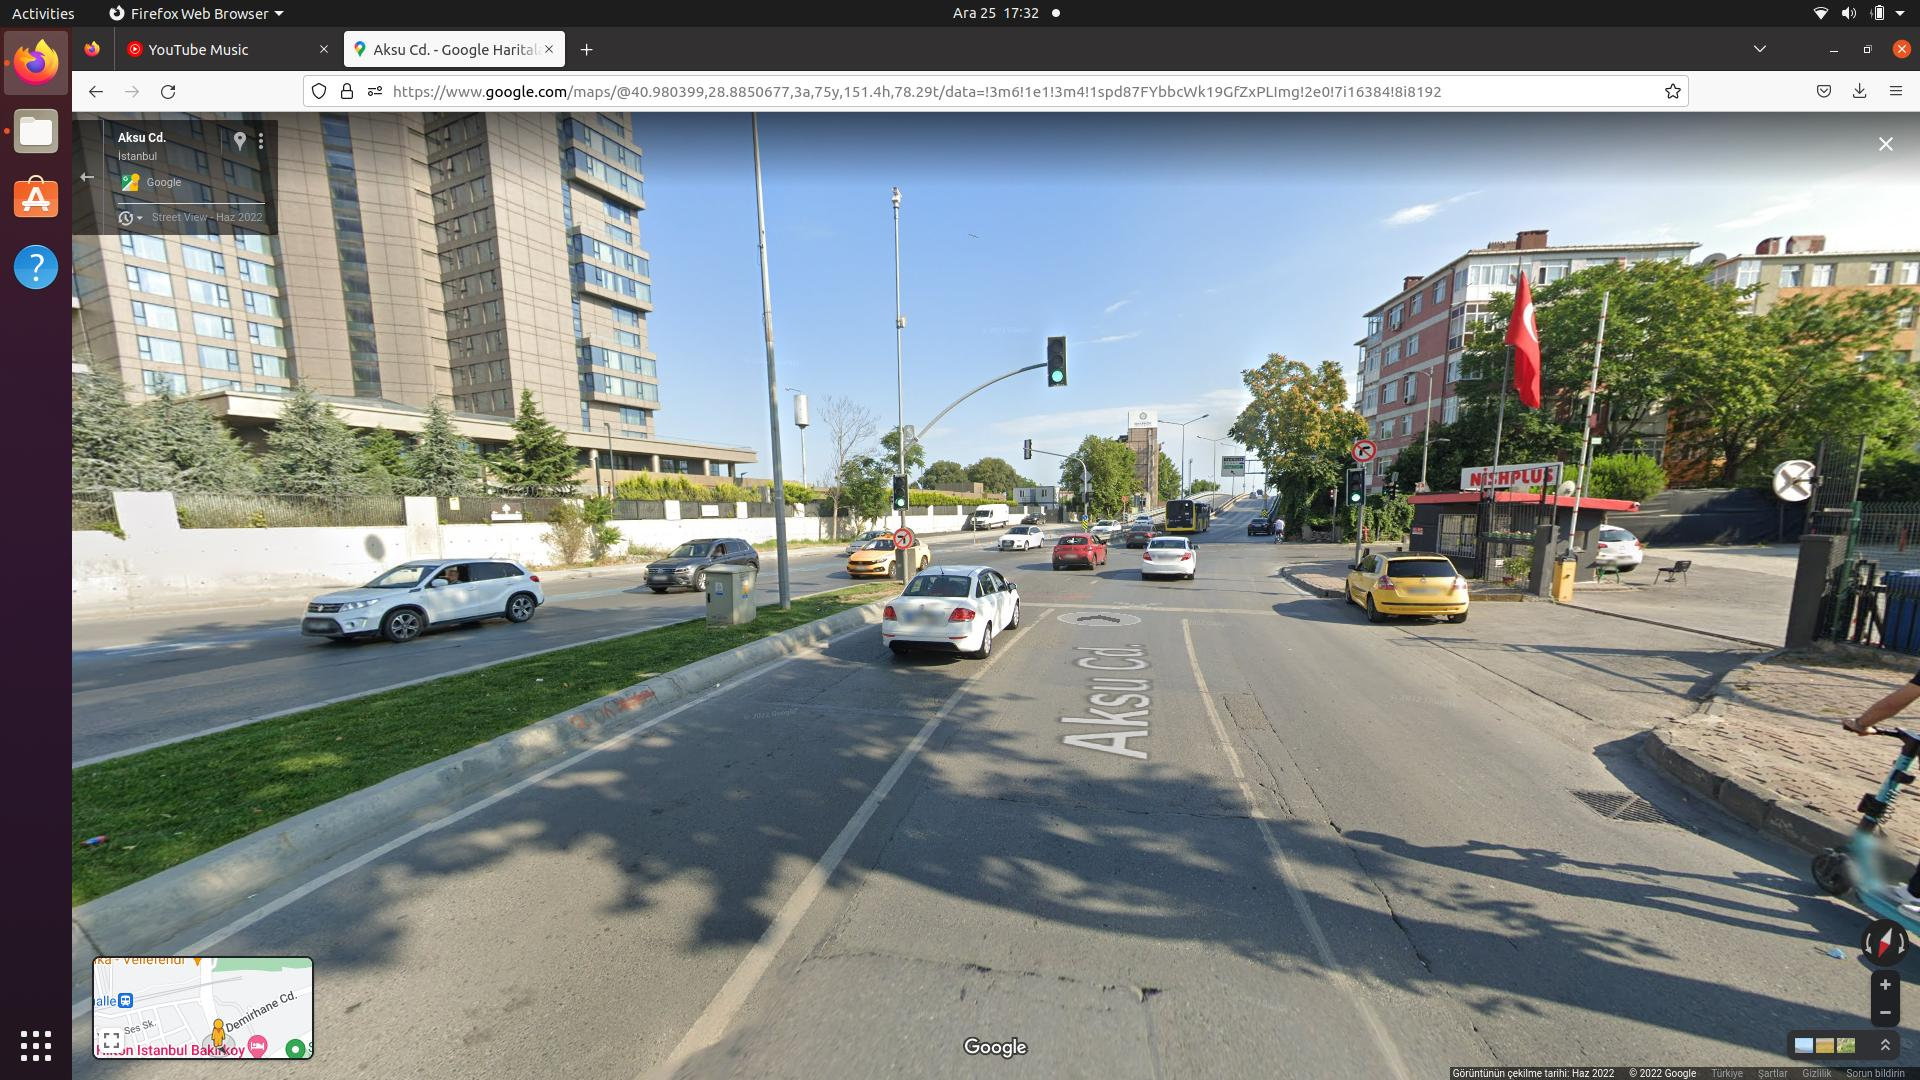greenlight: (1046, 336, 1068, 388), (890, 475, 909, 512), (1348, 468, 1366, 505)
leftturnsareforbidden: (894, 527, 911, 550)
rightturnsareforbidden: (1353, 439, 1374, 460)
